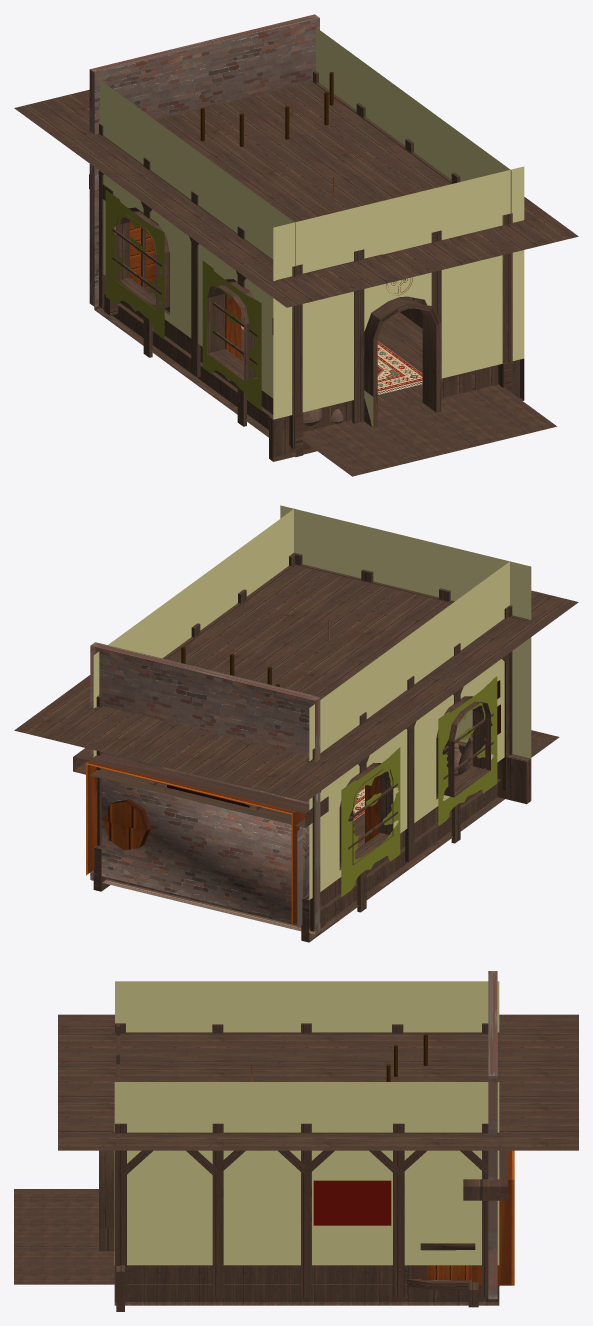
The model's file is escenariO2bar.fbx.
3 renders of one model, top to bottom at view 1: azimuth 30°, elevation 25°; view 2: azimuth 150°, elevation 25°; view 3: azimuth 270°, elevation 25°, orthographic. The views are drawn at different scales.
Parts seen in each view (by area): view 1: techo, pared puerta, pared izq, pared fondo, suelo.001, pared derecha, cristal ventana, suelo, cristal ventana.001, Cube.025, alfombra, Cube.019 (+7 smaller); view 2: techo, pared fondo, pared izq, pared puerta, pared derecha, estanteria fondo, deco estanteria.010, cristal ventana, cristal ventana.001, Cube.019, Cube.018, suelo (+2 smaller); view 3: pared derecha, techo, pared izq, suelo.001, pizarra recetas, pared fondo, pared puerta, estanteria fondo, Cube.015, Cube.011, Cube.014, deco estanteria.010 (+7 smaller).
Part boxes in pixels (<box>): techo: <box>14,81,578,307</box>; pared puerta: <box>269,166,524,461</box>; pared izq: <box>94,80,303,457</box>; pared fondo: <box>89,14,319,306</box>; suelo.001: <box>300,384,556,476</box>; pared derecha: <box>316,27,511,392</box>; cristal ventana: <box>105,189,164,339</box>; suelo: <box>117,293,422,415</box>; cristal ventana.001: <box>202,260,261,410</box>; Cube.025: <box>352,249,364,423</box>; alfombra: <box>241,325,422,394</box>; Cube.019: <box>191,191,200,377</box>; techo: <box>14,564,578,801</box>; pared fondo: <box>90,642,320,934</box>; pared izq: <box>301,561,510,942</box>; pared puerta: <box>280,505,531,804</box>; pared derecha: <box>93,508,294,891</box>; estanteria fondo: <box>86,761,305,925</box>; deco estanteria.010: <box>73,748,328,827</box>; cristal ventana: <box>341,747,400,897</box>; cristal ventana.001: <box>438,676,497,826</box>; Cube.019: <box>405,676,414,862</box>; Cube.018: <box>502,605,509,790</box>; suelo: <box>320,775,500,911</box>; pared derecha: <box>114,1082,499,1305</box>; techo: <box>58,1014,578,1150</box>; pared izq: <box>115,981,499,1032</box>; suelo.001: <box>14,1189,114,1284</box>; pizarra recetas: <box>313,1180,391,1225</box>; pared fondo: <box>488,971,497,1299</box>; pared puerta: <box>99,1150,124,1311</box>; estanteria fondo: <box>472,1150,514,1285</box>; Cube.015: <box>212,1123,223,1297</box>; Cube.011: <box>393,1123,403,1297</box>; Cube.014: <box>301,1123,311,1297</box>; deco estanteria.010: <box>463,1150,507,1200</box>.
Bounding box in the file's own units: 569 × 464 × 999.
